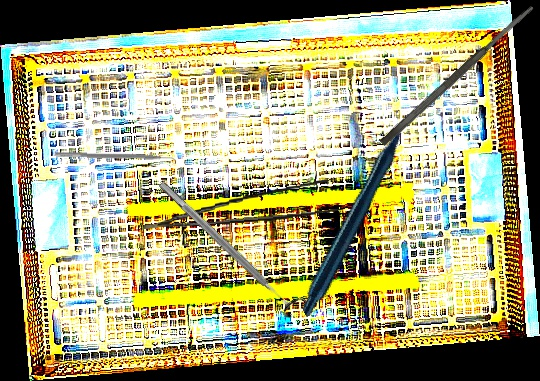Fixation Ring: (151, 172, 308, 322)
Handpiece: (246, 107, 482, 318)
Spatula Surgical: (378, 3, 537, 148), (55, 151, 177, 165)
Tissue Forceps: (140, 178, 347, 230)
